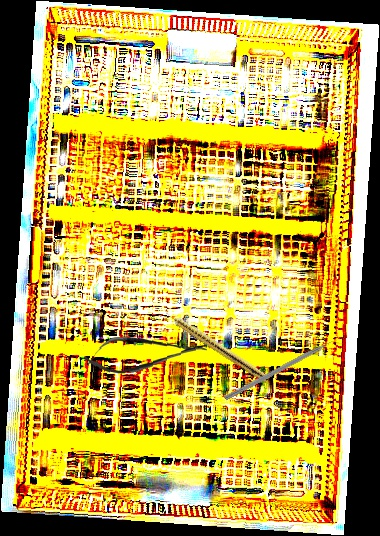Chopper: (223, 335, 345, 407)
Handpiece: (161, 307, 272, 384)
Micro Scissor: (82, 330, 209, 377)
